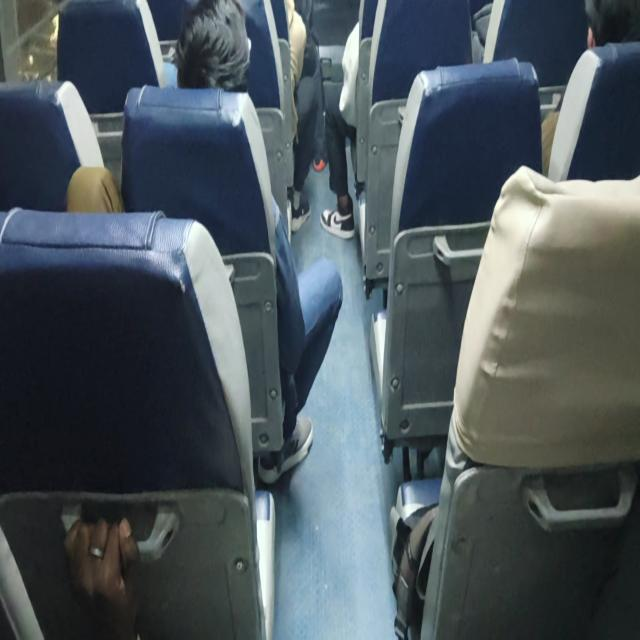person: (169, 0, 263, 121), (579, 0, 640, 56)
